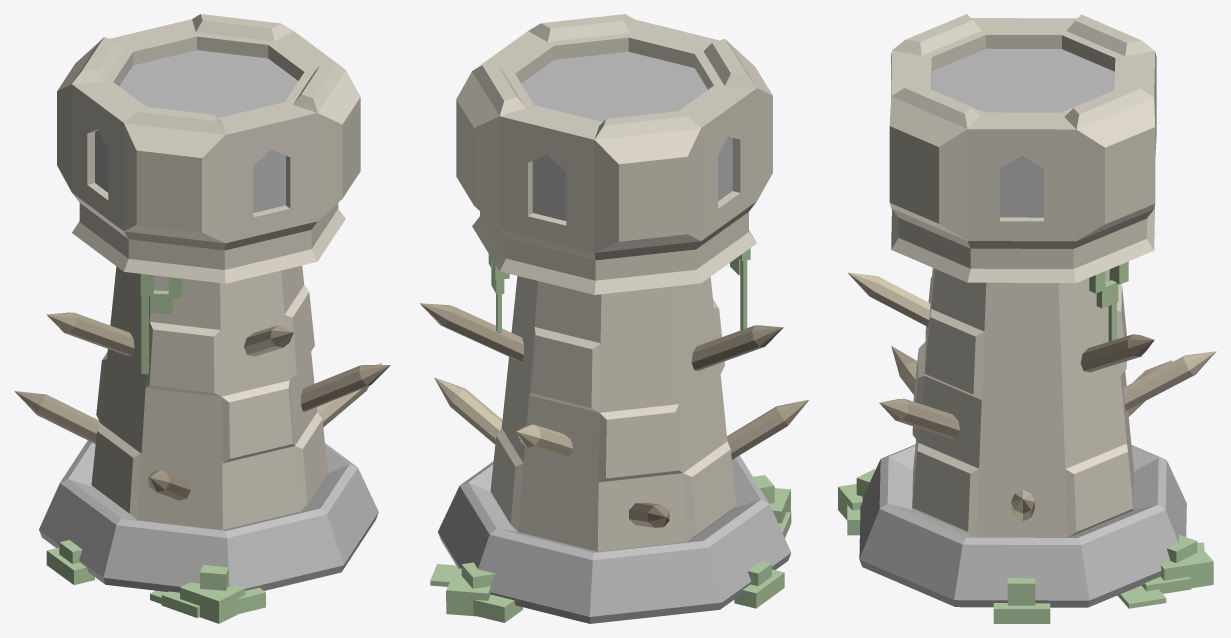
Rendered from StoneTower.fbx.
The picture shows the model from 3 angles, left to right: view 1: azimuth 30°, elevation 25°; view 2: azimuth 150°, elevation 25°; view 3: azimuth 270°, elevation 25°; orthographic projection. The views are drawn at different scales.
Visible parts, largest first — view 1: StoneTower; view 2: StoneTower; view 3: StoneTower.
Part boxes in pixels (x1,y1,x2,y2): StoneTower: (14,14,390,623); StoneTower: (420,14,808,623); StoneTower: (838,14,1216,623).
Bounding box in the file's own units: 141 × 189 × 134.
